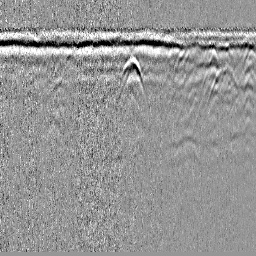cavity: (118, 53, 145, 89)
